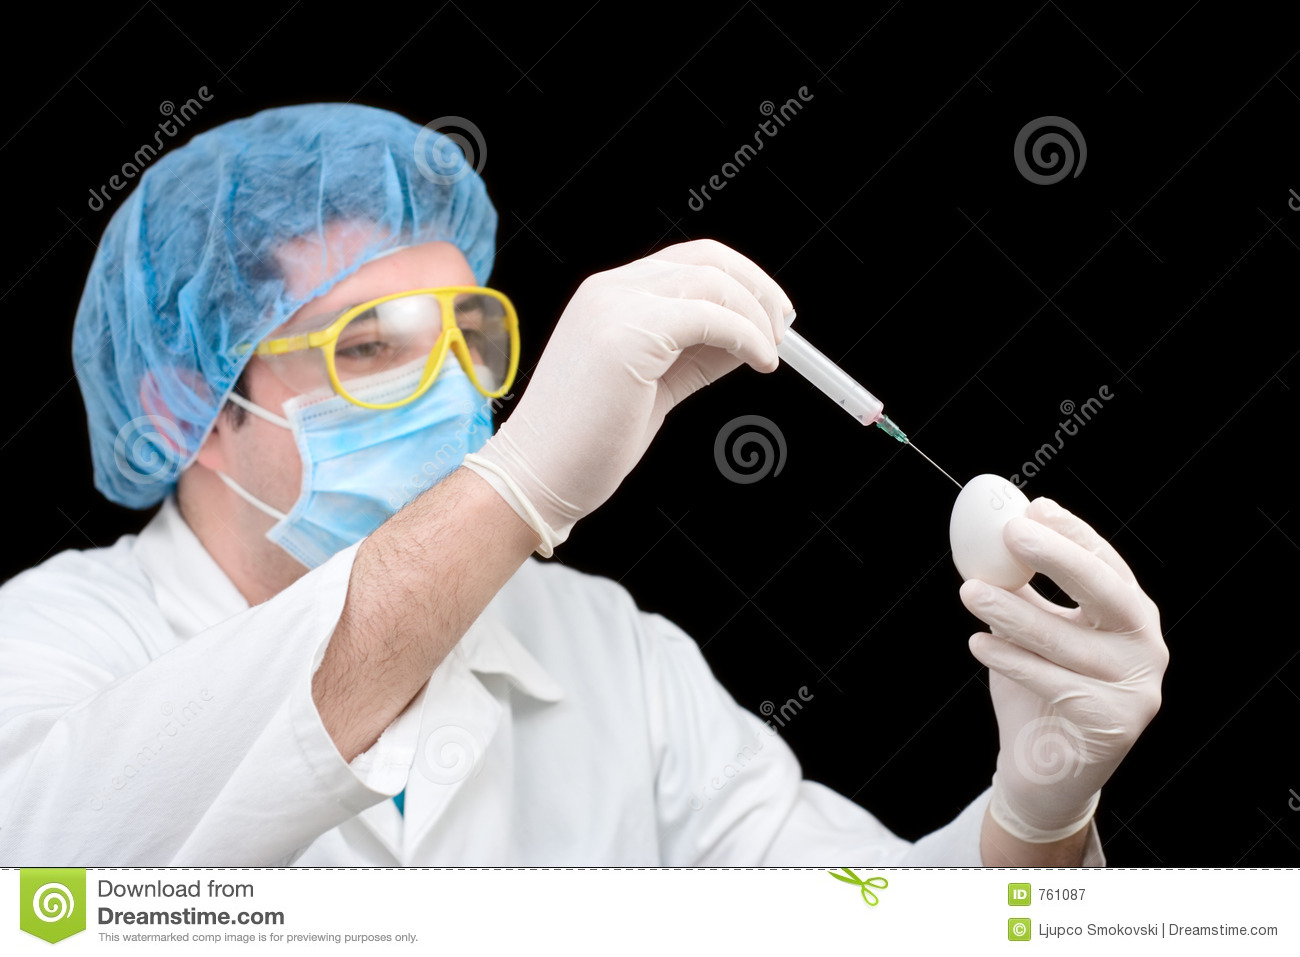mask: (288, 379, 517, 599)
